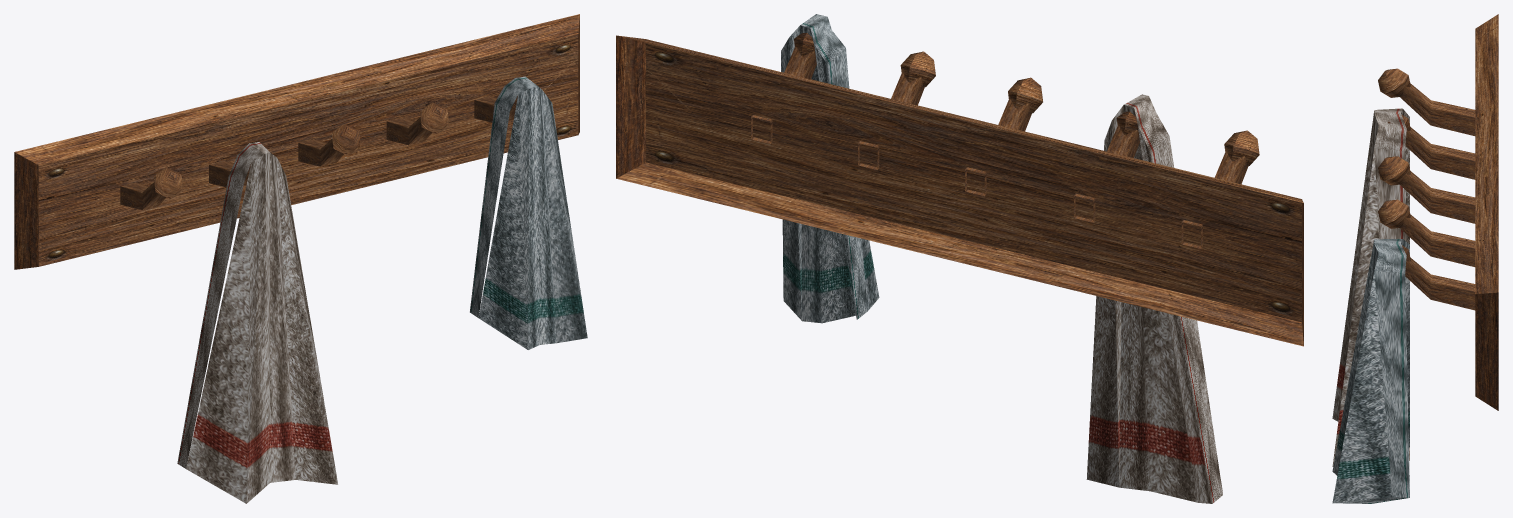
The model's file is mm9_deco_towelrack.glb.
3 renders of one model, left to right at view 1: azimuth 30°, elevation 25°; view 2: azimuth 150°, elevation 25°; view 3: azimuth 270°, elevation 25°, orthographic. The views are drawn at different scales.
Visible parts, largest first — view 1: Towelrack; view 2: Towelrack; view 3: Towelrack.
Part boxes in pixels (left/top/right/bottom): Towelrack: left=14, top=14, right=587, bottom=503; Towelrack: left=616, top=14, right=1303, bottom=503; Towelrack: left=1332, top=14, right=1498, bottom=503.
Bounding box in the file's own units: 1.9 × 1.06 × 0.4784.
Materials: 2 (2 with a texture image).
